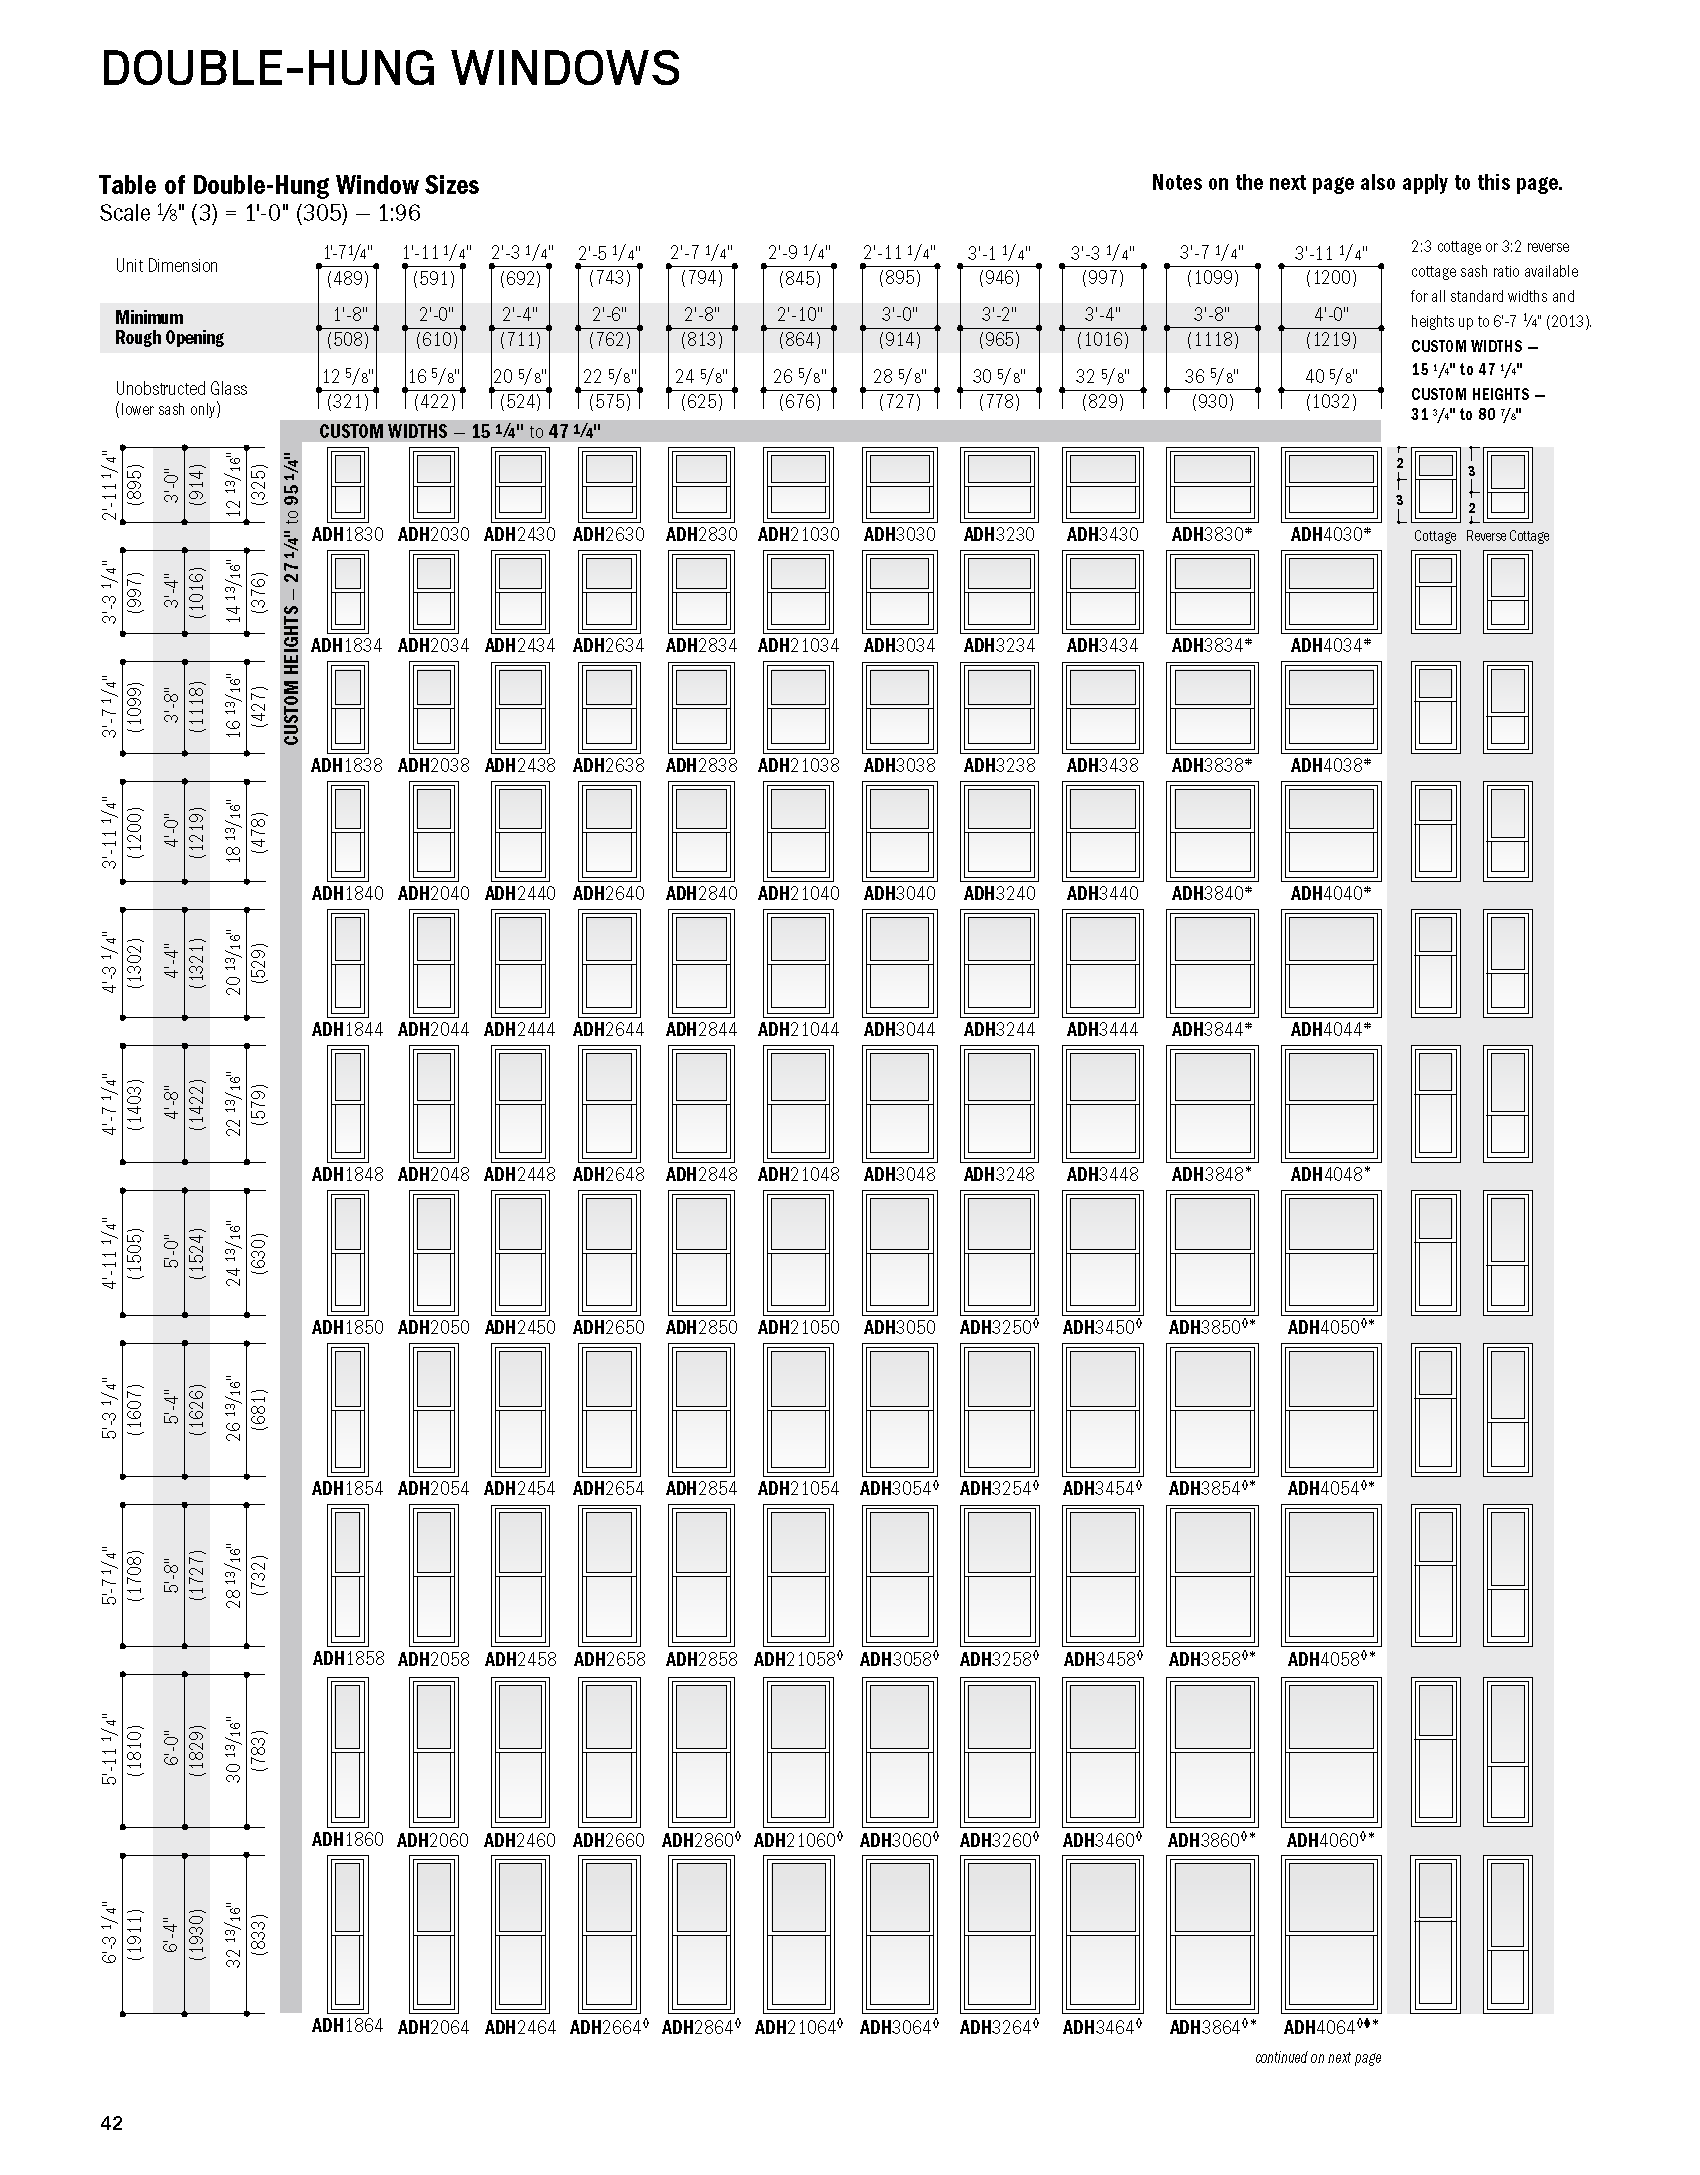tabledetected: (101, 233, 1386, 2039)
